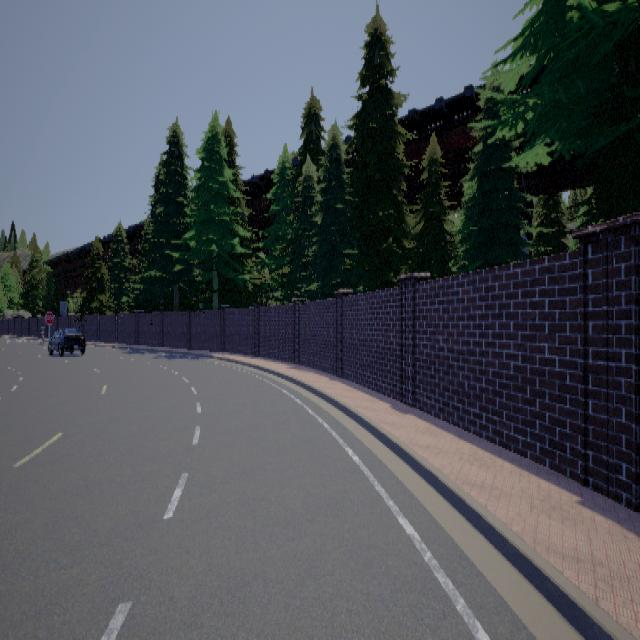traffic_sign: (44, 310, 54, 323)
vehicle: (47, 327, 85, 355)
